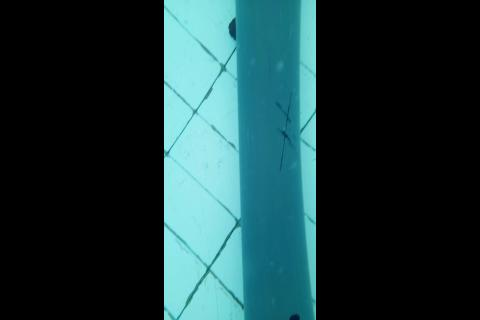kebocoran: (289, 311, 301, 319)
keretakan: (275, 93, 294, 170)
